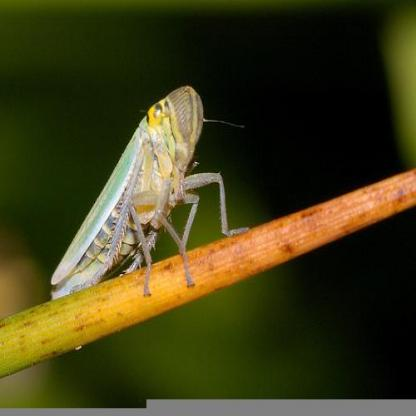Green-Leafhopper: (45, 84, 247, 301)
